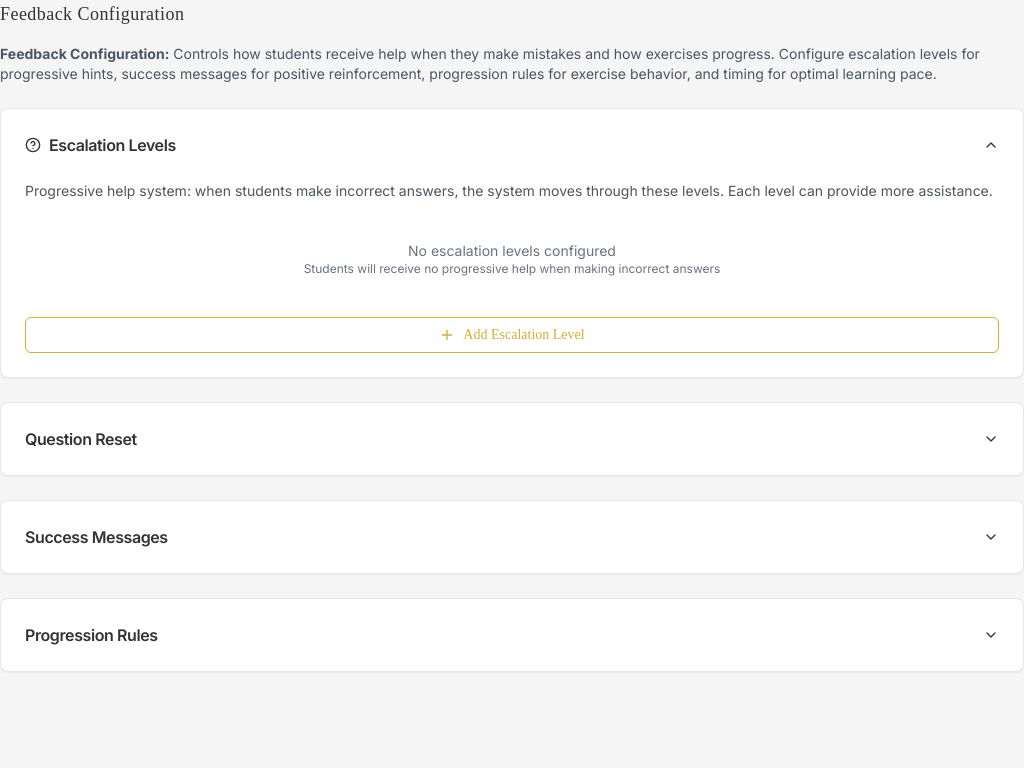
Test: auto-advance setting in the editor › shows rules without the field as not auto-advancing, as students experience it
Click the text "Progression Rules".
click(91, 635)  # box left=25, top=623, right=158, bottom=647
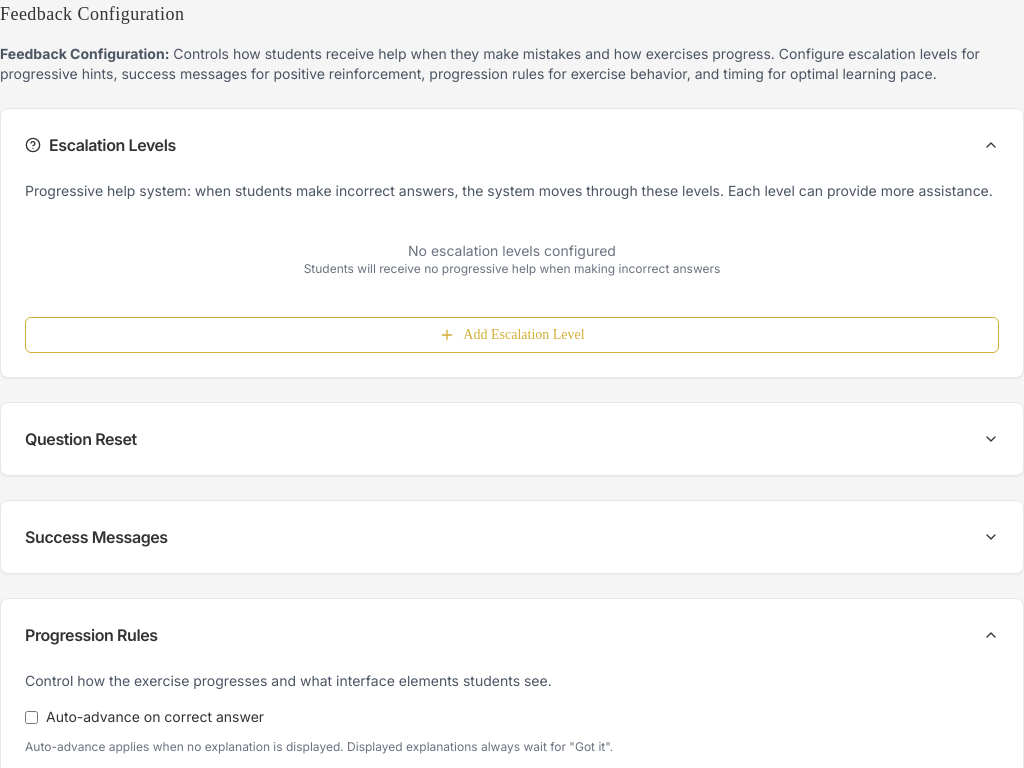
Result: the checkbox labelled "Auto-advance on correct answer" is not checked at left=25, top=710, right=38, bottom=724
